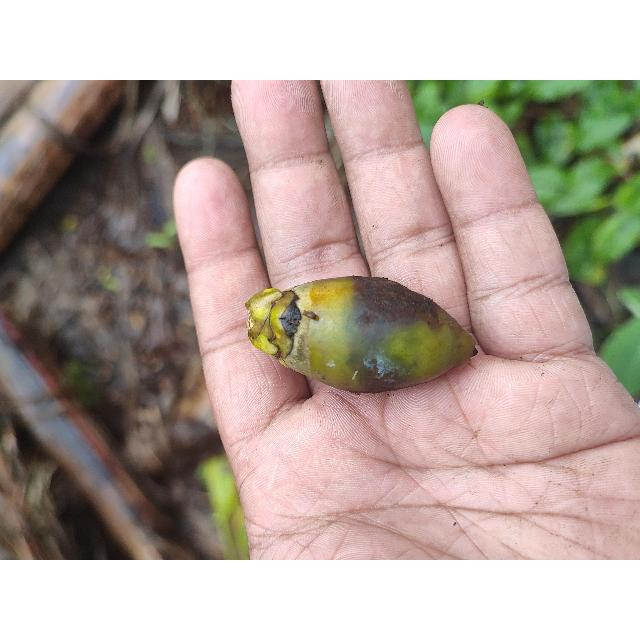damaged: (246, 276, 476, 392)
